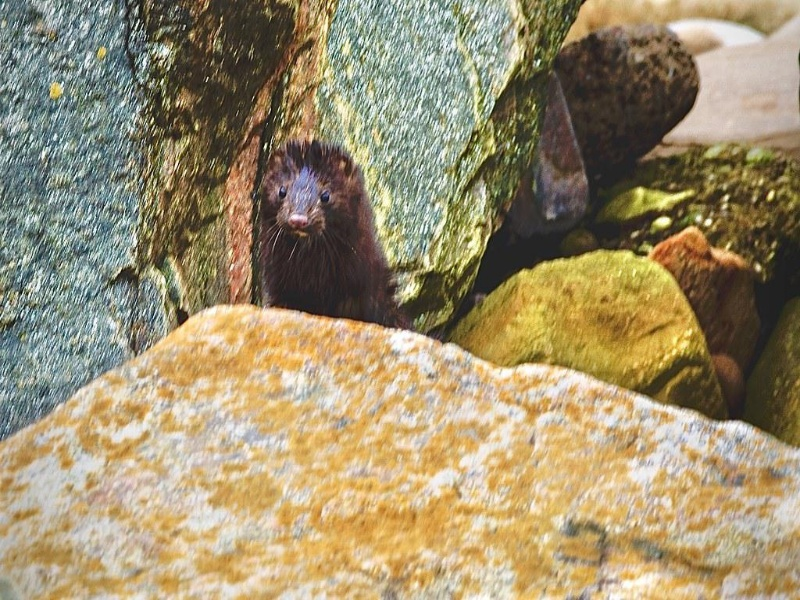minkish: (254, 141, 412, 339)
